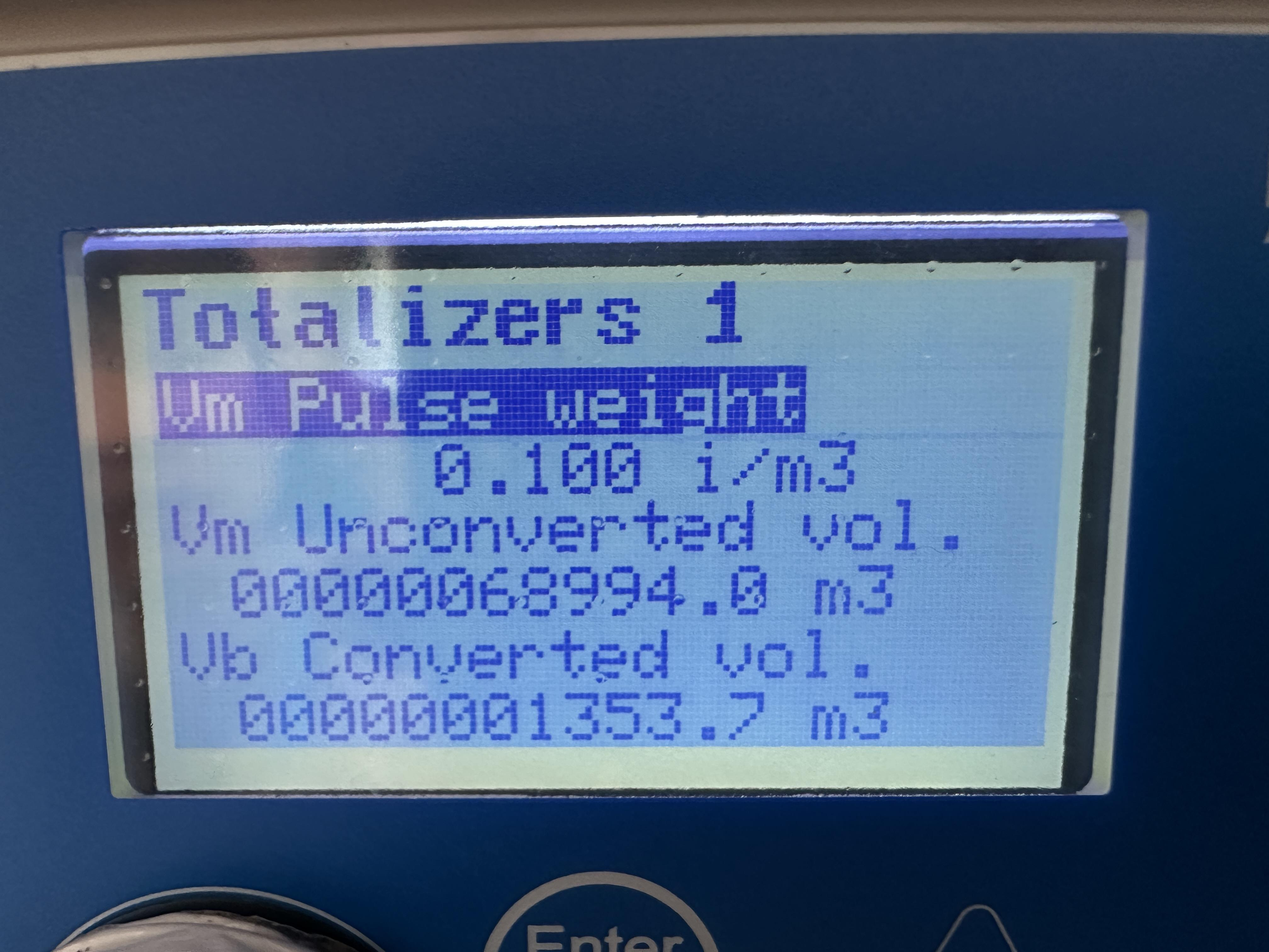digital_screen: (119, 262, 1101, 800)
